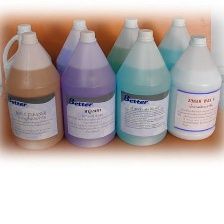cleaning_solution: (3, 29, 67, 154), (57, 28, 118, 151), (112, 25, 172, 149), (162, 30, 223, 142), (0, 21, 54, 117), (53, 16, 106, 108), (103, 14, 155, 99), (153, 14, 199, 97)
